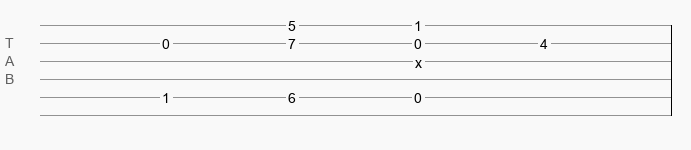0: (162, 36, 170, 46), (414, 36, 422, 46), (414, 90, 422, 100)
1: (162, 90, 170, 100), (414, 18, 422, 28)
4: (540, 36, 548, 46)
5: (288, 18, 296, 28)
6: (288, 90, 296, 100)
7: (288, 36, 296, 46)
x: (415, 55, 422, 63)
